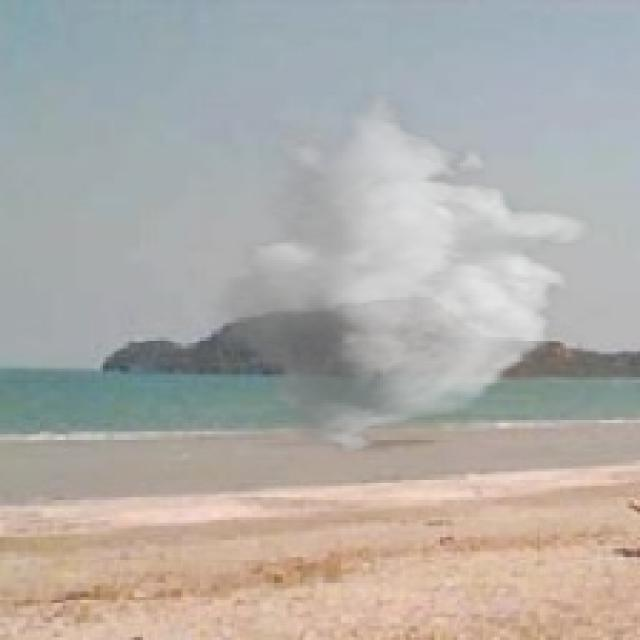Smoke: (200, 92, 594, 457)
